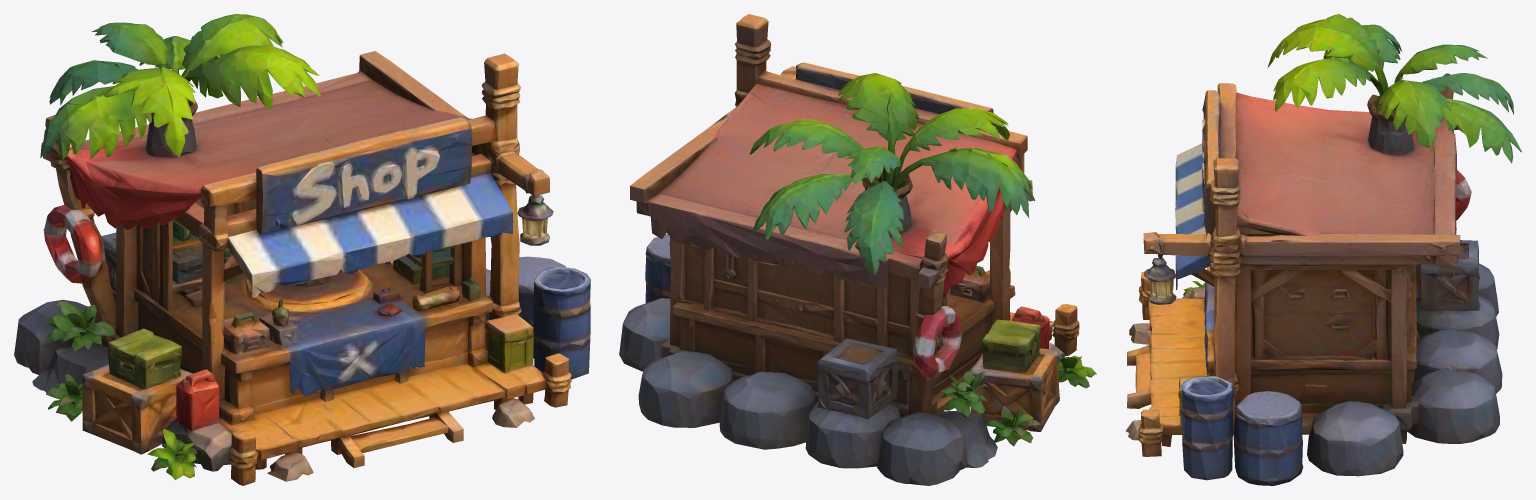
File: shop.glb
The picture shows the model from 3 angles, left to right: view 1: azimuth 30°, elevation 25°; view 2: azimuth 150°, elevation 25°; view 3: azimuth 270°, elevation 25°; orthographic projection. The views are drawn at different scales.
Parts seen in each view (by area): view 1: tripo_node_f6526da8-285f-4e39-93e9-84240c003567; view 2: tripo_node_f6526da8-285f-4e39-93e9-84240c003567; view 3: tripo_node_f6526da8-285f-4e39-93e9-84240c003567.
Part boxes in pixels (left/top/right/bottom): tripo_node_f6526da8-285f-4e39-93e9-84240c003567: left=14, top=14, right=590, bottom=485; tripo_node_f6526da8-285f-4e39-93e9-84240c003567: left=619, top=14, right=1096, bottom=485; tripo_node_f6526da8-285f-4e39-93e9-84240c003567: left=1126, top=14, right=1521, bottom=485.
Bounding box in the file's own units: 0.9982 × 0.6881 × 0.8081.
Materials: 1 (1 with a texture image).
